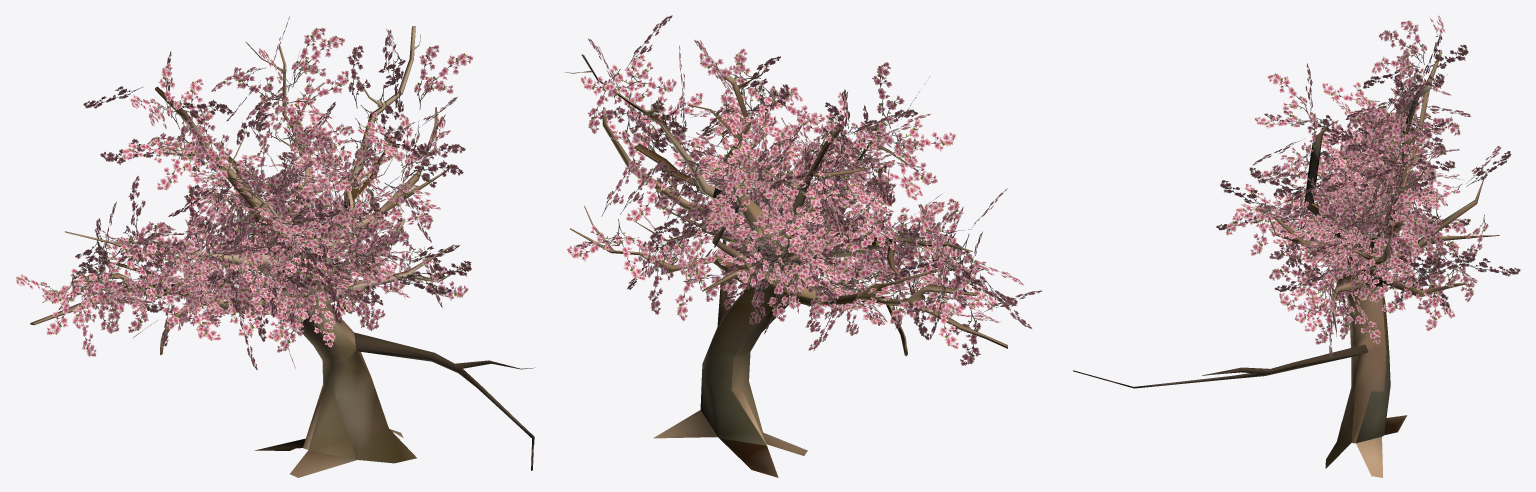
Rendered from CherryBlossomTree_1.fbx.
3 renders of one model, left to right at view 1: azimuth 30°, elevation 25°; view 2: azimuth 150°, elevation 25°; view 3: azimuth 270°, elevation 25°, orthographic. The views are drawn at different scales.
Parts seen in each view (by area): view 1: cherry blossom branch transparent.001, Cube; view 2: cherry blossom branch transparent.001, Cube; view 3: cherry blossom branch transparent.001, Cube.
Boxes of the visible parts, x1,y1,x2,y2 form: cherry blossom branch transparent.001: (16,16,473,370); Cube: (30,26,535,477); cherry blossom branch transparent.001: (566,15,1042,365); Cube: (565,54,1007,477); cherry blossom branch transparent.001: (1216,15,1520,358); Cube: (1073,50,1499,477).
Size of the model in its own units: 1217 by 1070 by 1175.
